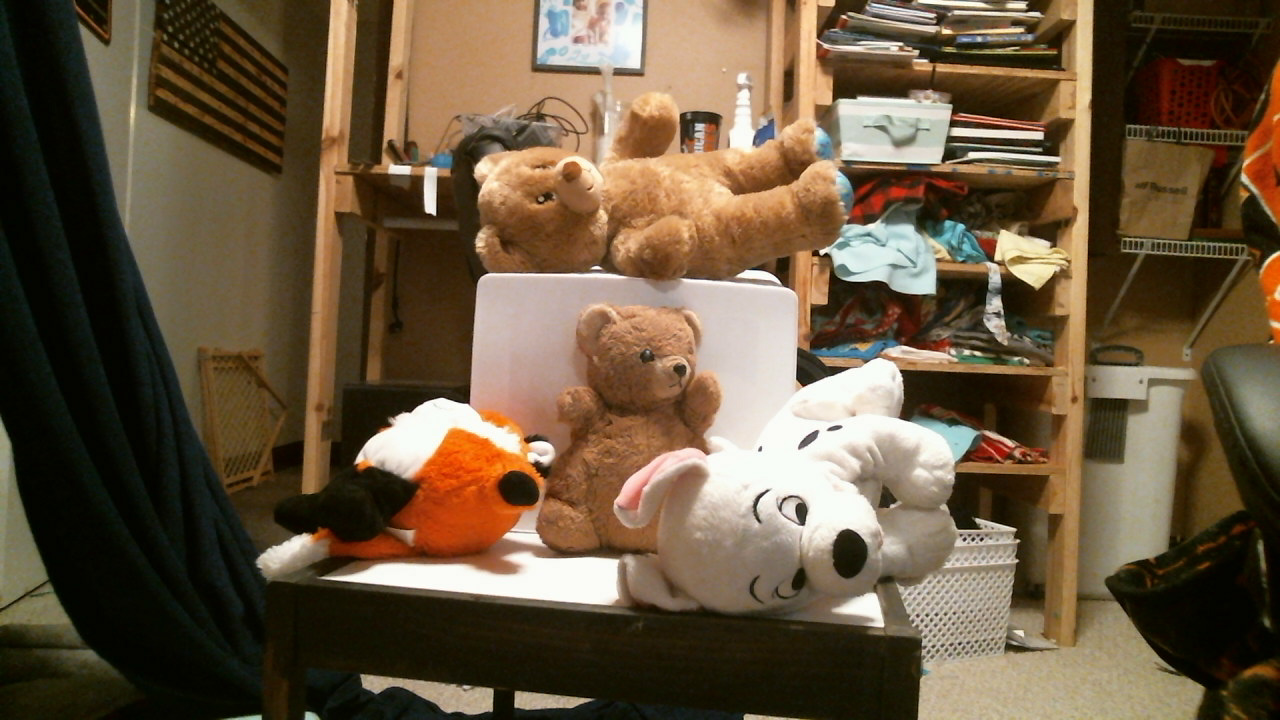Little_Mister_Bear: (633, 343, 708, 403)
